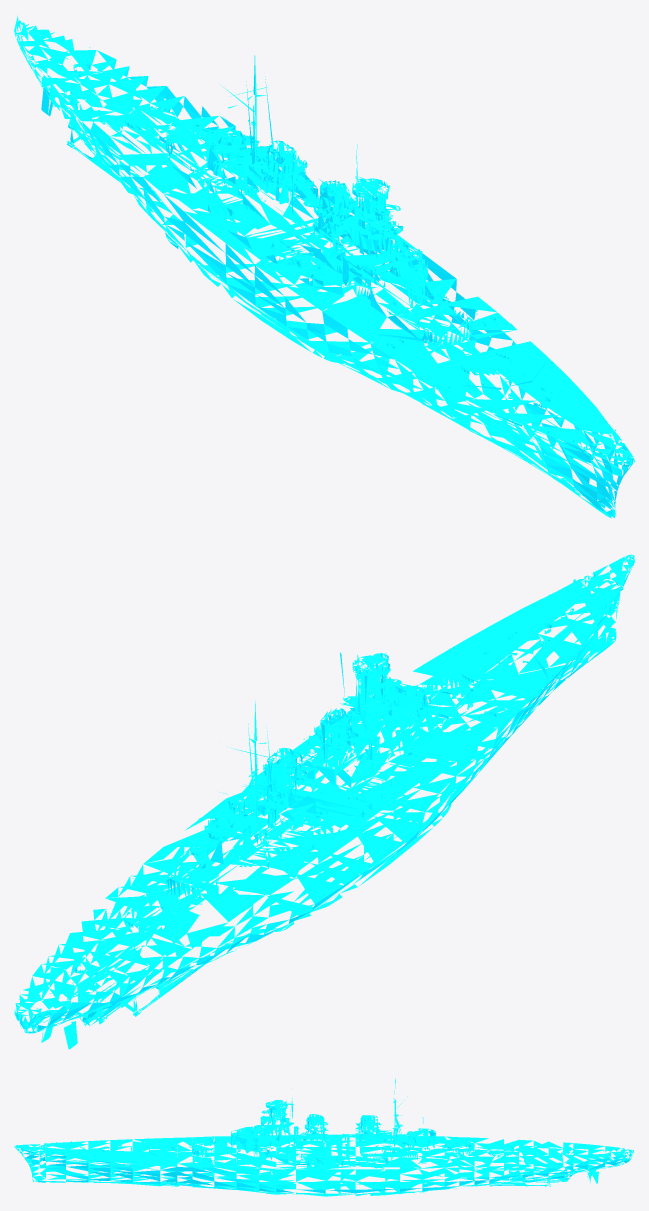
File: Hannover.glb
3 renders of one model, top to bottom at view 1: azimuth 30°, elevation 25°; view 2: azimuth 150°, elevation 25°; view 3: azimuth 270°, elevation 25°, orthographic. The views are drawn at different scales.
Size of the model in its own units: 3.03 by 4.3 by 23.35.
